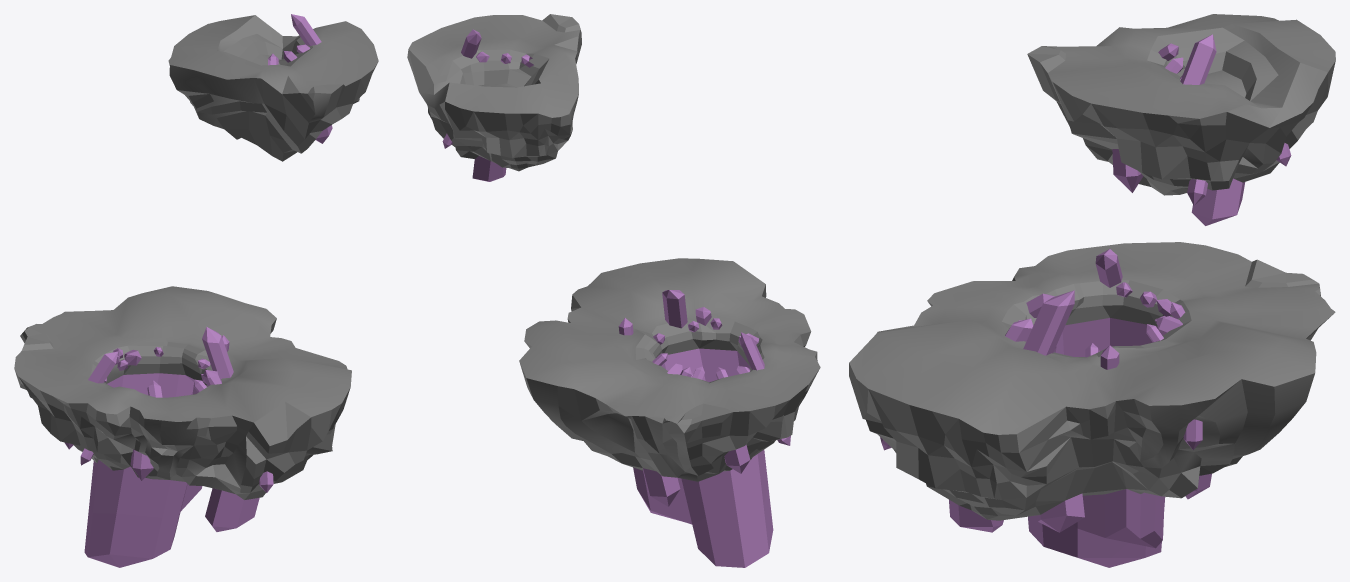
File: Island_Waterfall.fbx
The picture shows the model from 3 angles, left to right: view 1: azimuth 30°, elevation 25°; view 2: azimuth 150°, elevation 25°; view 3: azimuth 270°, elevation 25°; orthographic projection. The views are drawn at different scales.
Parts seen in each view (by area): view 1: Cylinder003; view 2: Cylinder003; view 3: Cylinder003.
Boxes of the visible parts, x1,y1,x2,y2 form: Cylinder003: [14, 14, 378, 567]; Cylinder003: [407, 14, 820, 567]; Cylinder003: [849, 14, 1335, 567].
Bounding box in the file's own units: 778 × 1013 × 659.
